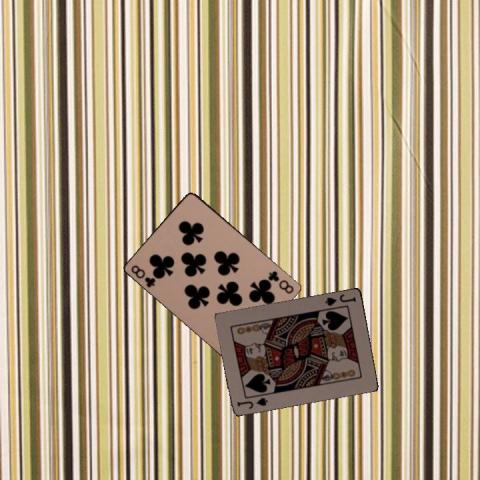8c: (266, 268, 296, 295), (128, 262, 157, 289)
Js: (322, 291, 357, 307), (234, 394, 269, 410)
